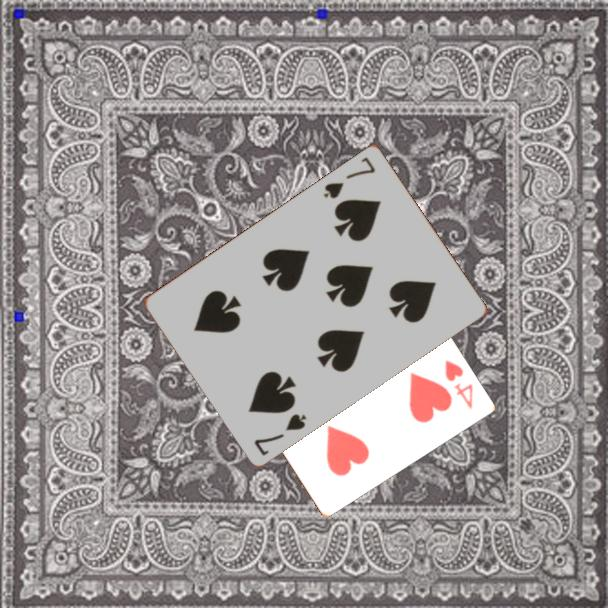h04: (441, 356, 476, 412)
s07: (251, 410, 310, 459), (320, 153, 378, 202)
